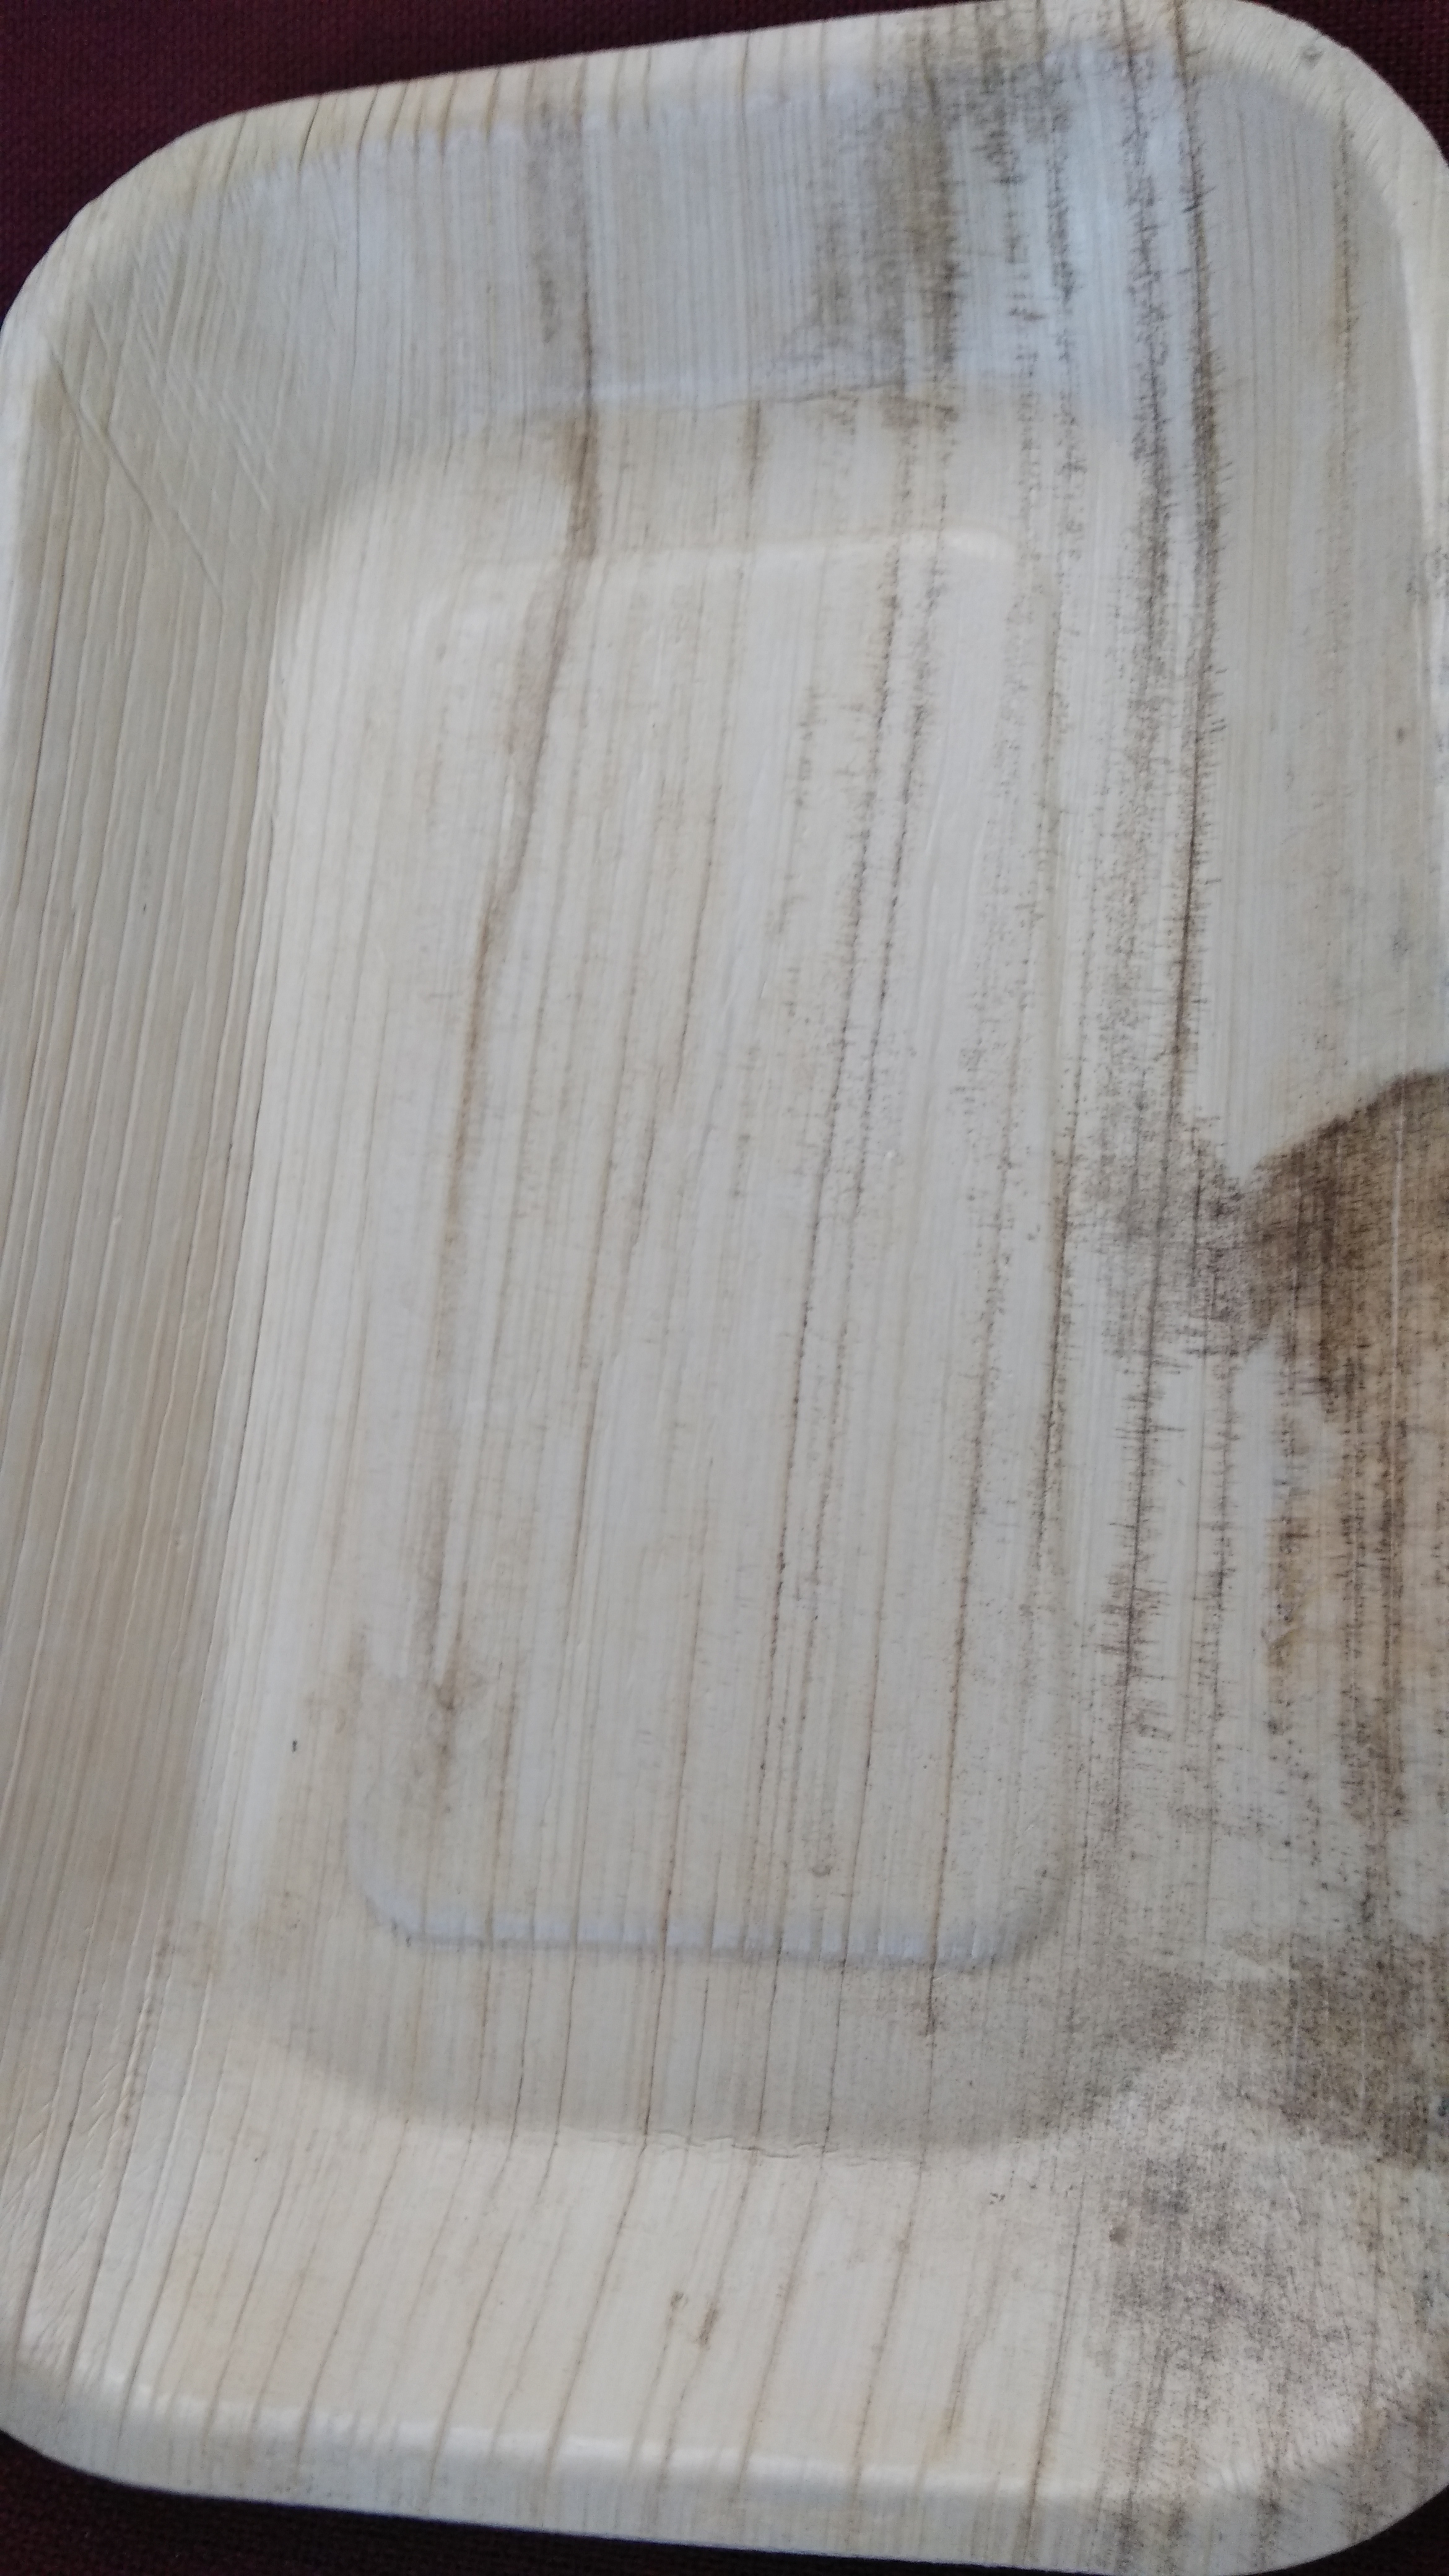areca plate: (25, 62, 1437, 2551)
